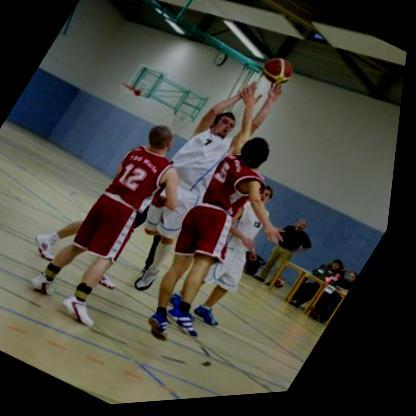basketball: (258, 56, 303, 96)
rim: (119, 81, 143, 98)
